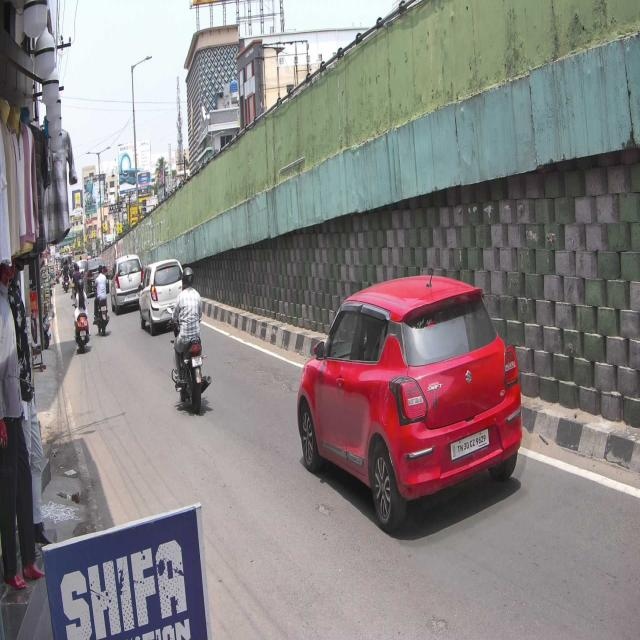single_rider: (165, 266, 212, 416)
